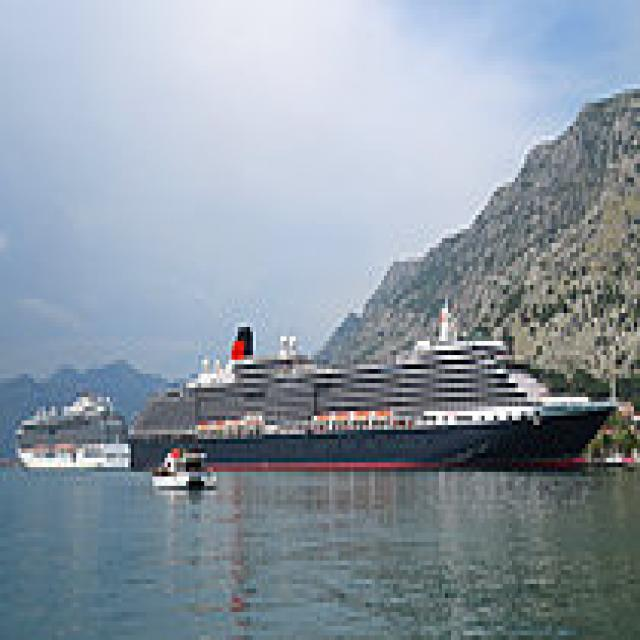Ship: (126, 291, 632, 501)
